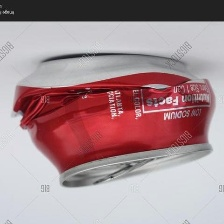can: (6, 47, 219, 196)
